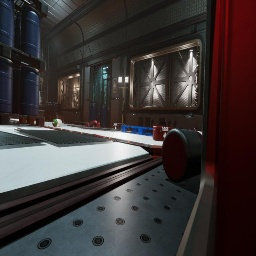0: (52, 119, 62, 127), (18, 117, 19, 118)
FireExtinguisher ]: (89, 120, 99, 127), (92, 134, 107, 138), (84, 122, 90, 127), (10, 116, 11, 120)
FirstAidBox ,: (153, 122, 174, 141), (112, 121, 122, 131), (91, 119, 100, 128)
NitrogenTank ,: (162, 128, 202, 183), (188, 126, 202, 131), (119, 123, 126, 126)
SafetySwitchPanel ,: (113, 77, 118, 94)
